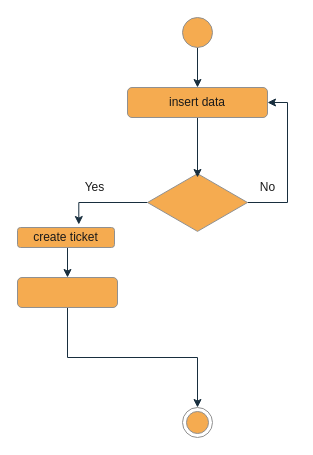
This 313x455 diagram has some shape labels left out. Each missing label, with the centre of its shape:
"is data correctly?" belongs at point (197, 202).
"send request to employee" belongs at point (67, 292).
